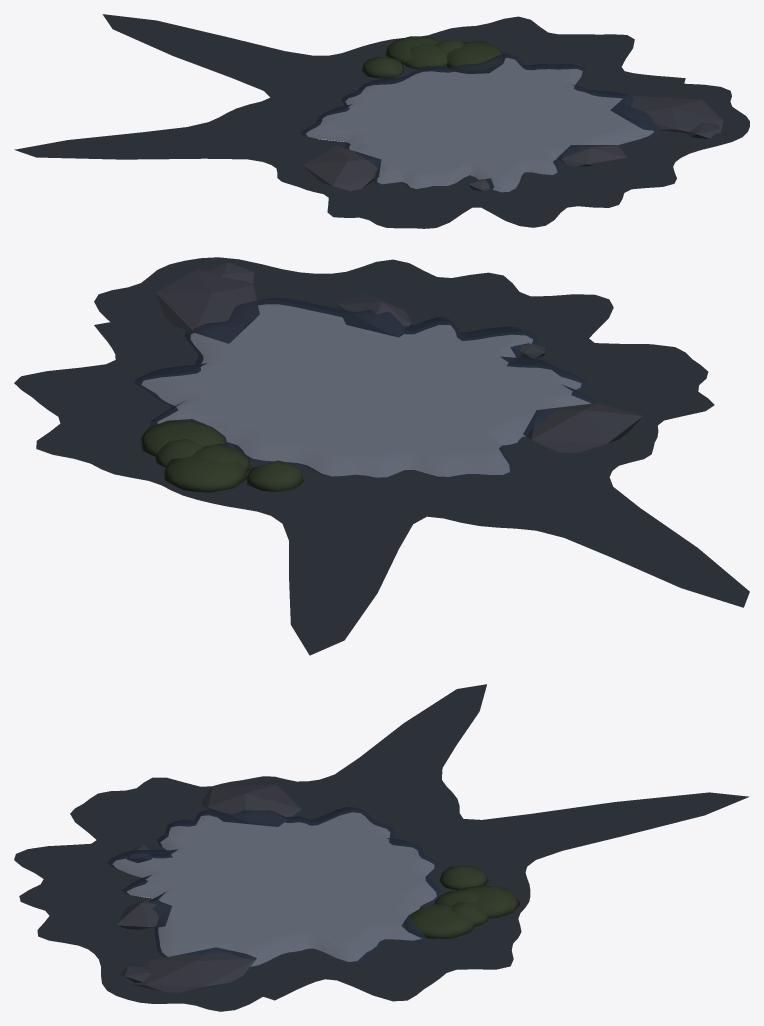
File: SM_Cripta_Poca_A.glb
The picture shows the model from 3 angles, top to bottom: view 1: azimuth 30°, elevation 25°; view 2: azimuth 150°, elevation 25°; view 3: azimuth 270°, elevation 25°; orthographic projection. The views are drawn at different scales.
Visible parts, largest first — view 1: Anel, Agua, Pedrinhas, Limo; view 2: Anel, Agua, Pedrinhas, Limo; view 3: Anel, Agua, Pedrinhas, Limo.
Part boxes in pixels (left/top/right/bottom): Anel: left=14, top=14, right=749, bottom=228; Agua: left=301, top=53, right=659, bottom=193; Pedrinhas: left=303, top=96, right=723, bottom=191; Limo: left=362, top=36, right=504, bottom=78; Anel: left=14, top=257, right=749, bottom=655; Agua: left=134, top=298, right=597, bottom=478; Pedrinhas: left=156, top=262, right=642, bottom=453; Limo: left=139, top=419, right=303, bottom=492; Anel: left=14, top=684, right=749, bottom=1011; Agua: left=107, top=806, right=441, bottom=968; Pedrinhas: left=115, top=784, right=301, bottom=992; Limo: left=402, top=865, right=520, bottom=938.
Size of the model in its own units: 0.9267 by 0.0255 by 0.8796.
